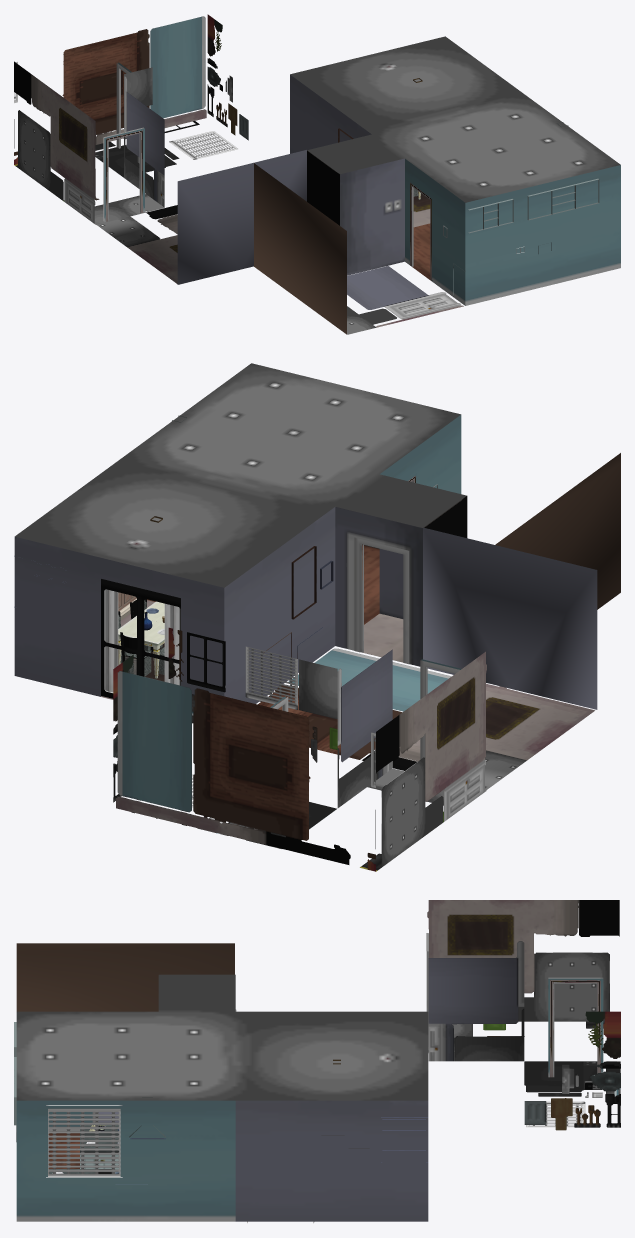
File: Room_Modificado.fbx
3 renders of one model, top to bottom at view 1: azimuth 30°, elevation 25°; view 2: azimuth 150°, elevation 25°; view 3: azimuth 270°, elevation 25°, orthographic. The views are drawn at different scales.
Parts seen in each view (by area): view 1: Room, Furniture; view 2: Room, Furniture, Items1; view 3: Room, Items1, Furniture.
Part boxes in pixels (x1,y1,x2,y2): Room: [14, 14, 620, 334]; Furniture: [338, 78, 599, 297]; Room: [14, 363, 620, 871]; Furniture: [14, 415, 379, 701]; Items1: [101, 484, 437, 698]; Room: [16, 900, 620, 1221]; Items1: [16, 1105, 122, 1177]; Furniture: [14, 1022, 427, 1222].
Size of the model in its own units: 2.02 by 0.5931 by 2.58.
